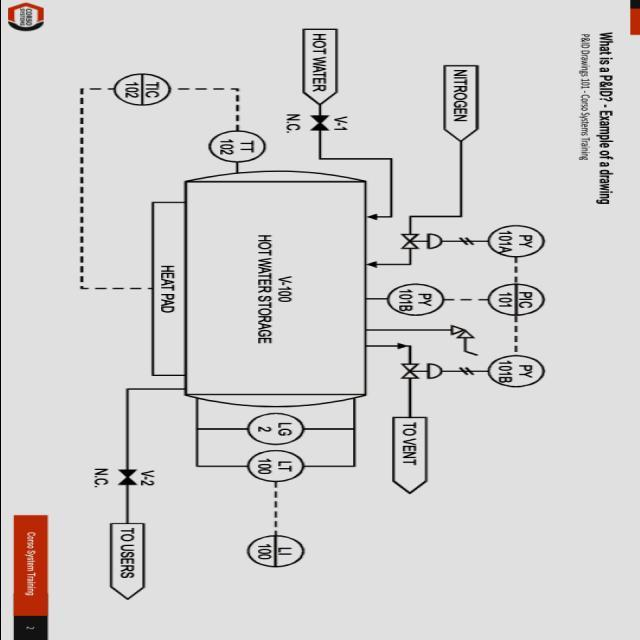Angle Valve: (442, 320, 482, 346)
Closed Gate Valve: (114, 460, 144, 490), (304, 112, 332, 134)
Pneumatic-Diaphragm Gate Valve: (398, 354, 450, 384), (394, 227, 450, 253)
